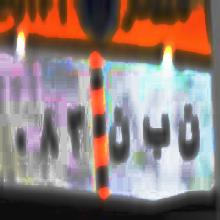0: (11, 123, 30, 171)
3: (66, 96, 89, 162)
8: (38, 104, 59, 173)
baa: (142, 103, 173, 159)
noon: (106, 98, 132, 174), (177, 98, 202, 168)
